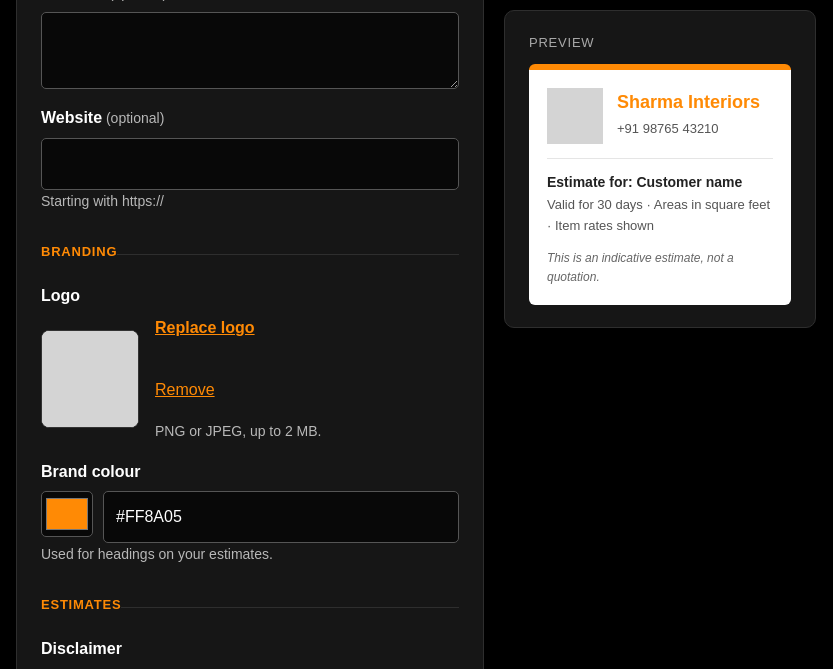
it: Settings › Business profile (#30) › logo › removes the logo
(page scrolled)
Click the button "Remove" at (185, 390), box [155,368,215,412]
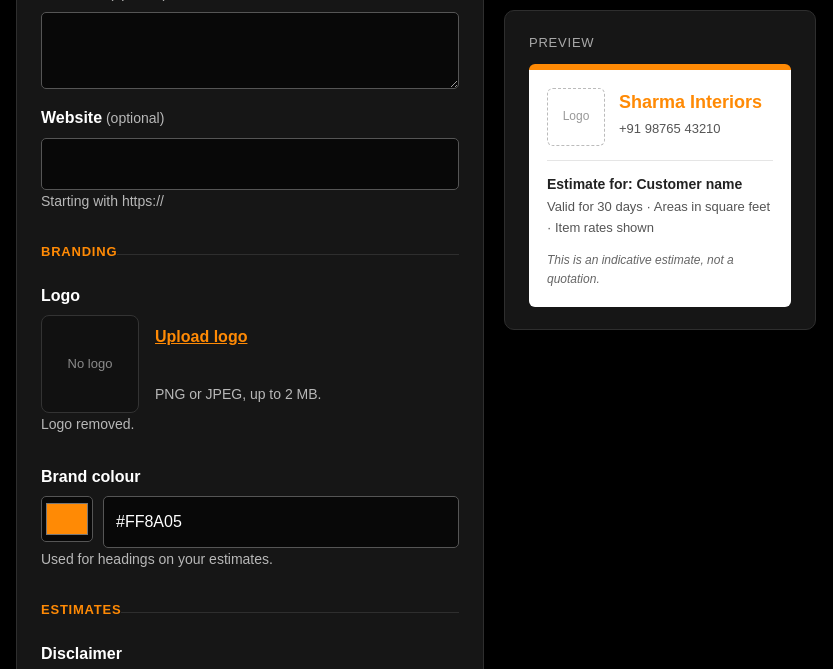
Check: the text "Logo removed." is shown, box [41,416,134,432]
